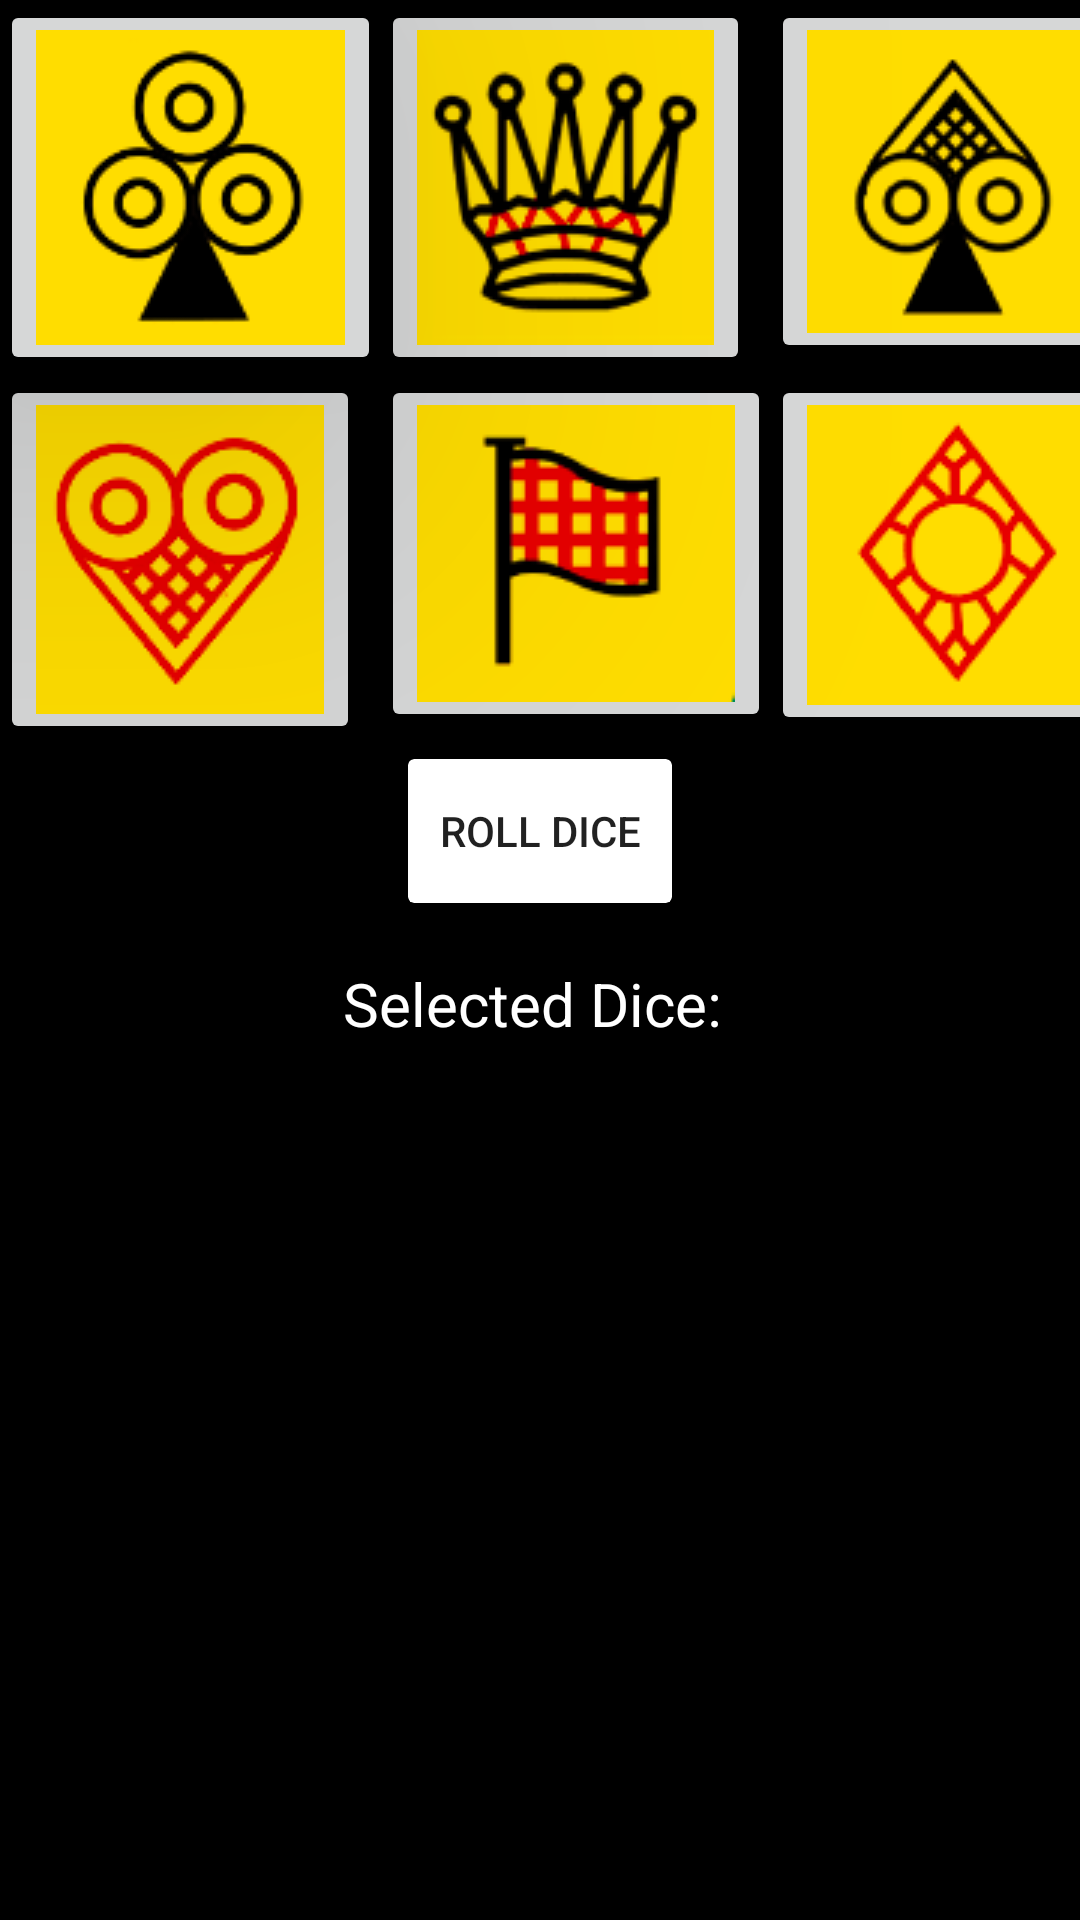

Where icons sit on this 1080*1920 app screen, as (x1, y1, x2, y2):
clubs: (12, 18, 369, 357)
heart: (12, 393, 348, 726)
kings: (393, 18, 738, 357)
